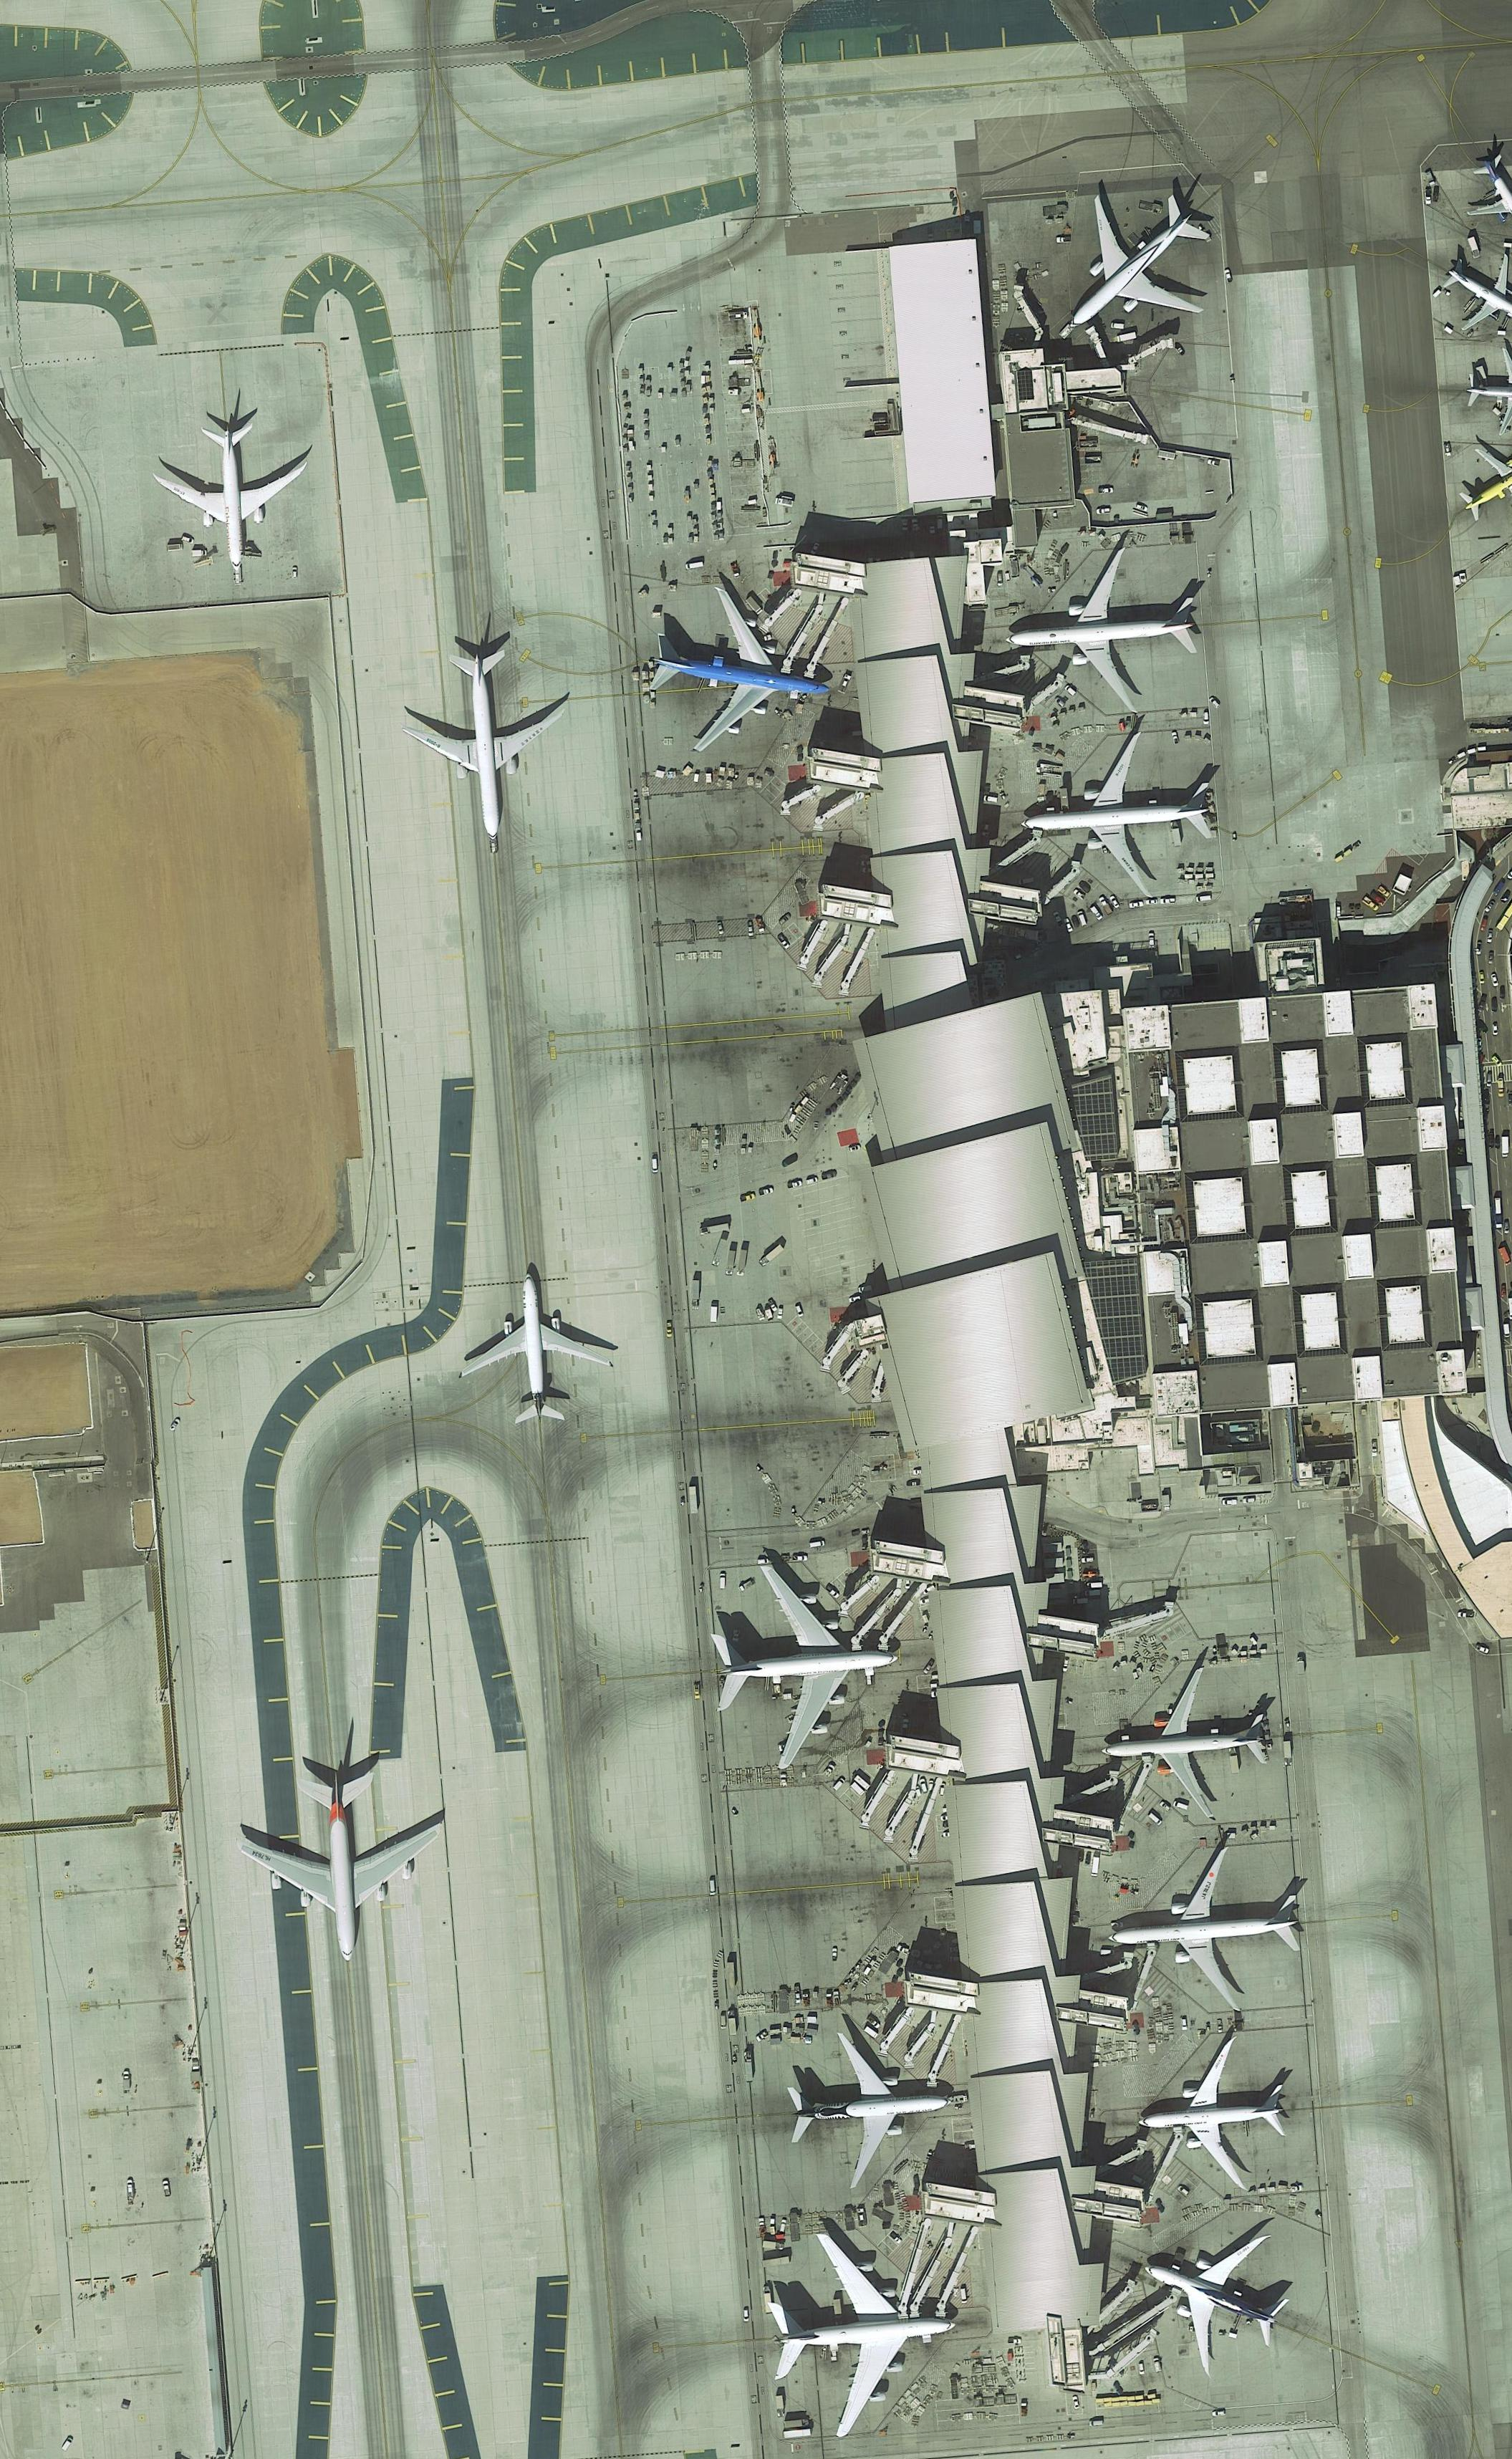plane: (1010, 151, 1249, 386), (223, 1758, 457, 1979), (699, 1553, 910, 1783), (755, 2224, 964, 2447), (1092, 1832, 1314, 2027), (1003, 720, 1226, 910), (637, 580, 850, 768), (992, 539, 1206, 722), (393, 643, 581, 848), (1113, 2199, 1310, 2392), (1089, 1662, 1280, 1832), (774, 2022, 962, 2194), (448, 1265, 622, 1435), (146, 420, 318, 588), (1127, 2030, 1300, 2197)
